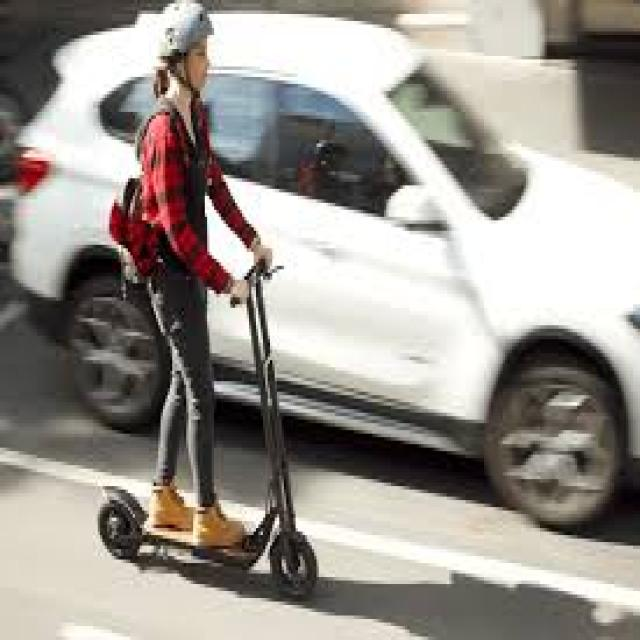helmet: (89, 0, 340, 612)
